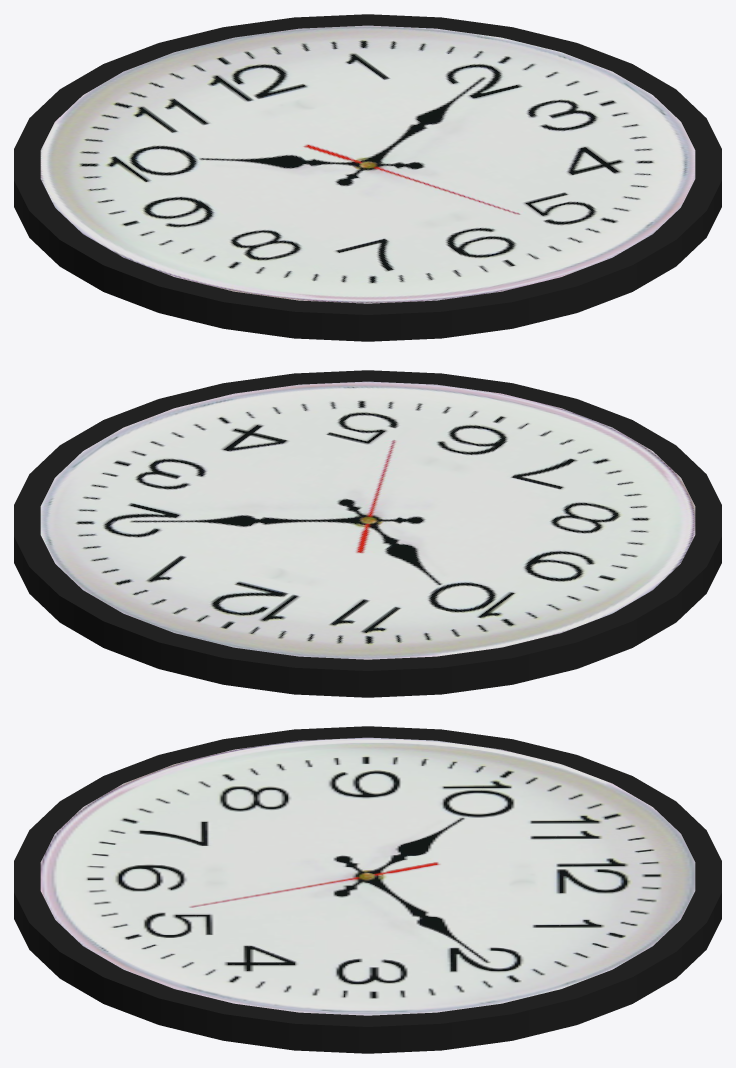
File: clock1.FBX
The picture shows the model from 3 angles, top to bottom: view 1: azimuth 30°, elevation 25°; view 2: azimuth 150°, elevation 25°; view 3: azimuth 270°, elevation 25°; orthographic projection.
Parts seen in each view (by area): view 1: clock1; view 2: clock1; view 3: clock1.
Boxes of the visible parts, bbox=[...] form: clock1: bbox=[14, 14, 721, 341]; clock1: bbox=[14, 370, 721, 697]; clock1: bbox=[14, 726, 721, 1053].
Size of the model in its own units: 3.5 by 0.145 by 3.48.
